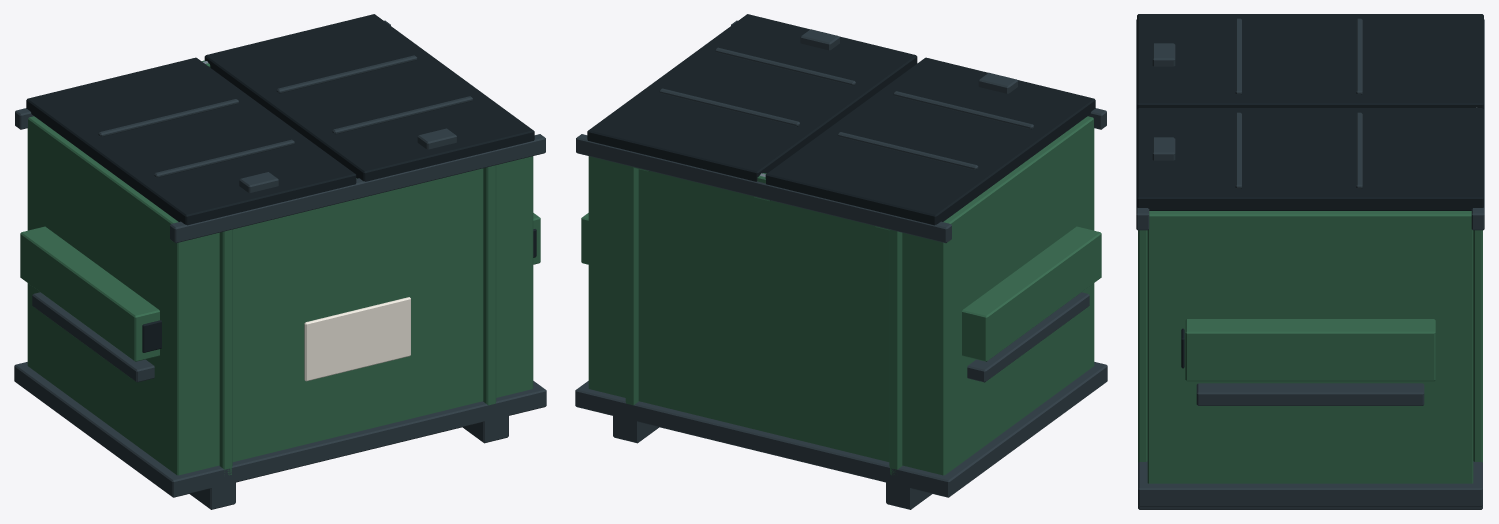
Rendered from b04_front_load_commercial_dumpster.glb.
3 renders of one model, left to right at view 1: azimuth 30°, elevation 25°; view 2: azimuth 150°, elevation 25°; view 3: azimuth 270°, elevation 25°, orthographic. The views are drawn at different scales.
Visible parts, largest first — view 1: b04_front_load_commercial_dumpster; view 2: b04_front_load_commercial_dumpster; view 3: b04_front_load_commercial_dumpster.
Part boxes in pixels (<box>): b04_front_load_commercial_dumpster: <box>14,14,546,509</box>; b04_front_load_commercial_dumpster: <box>575,14,1107,509</box>; b04_front_load_commercial_dumpster: <box>1136,14,1484,509</box>.
Bounding box in the file's own units: 2.68 × 1.95 × 1.84.
